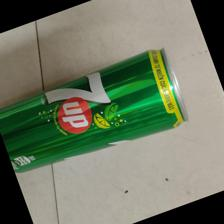7up: (1, 48, 192, 176)
